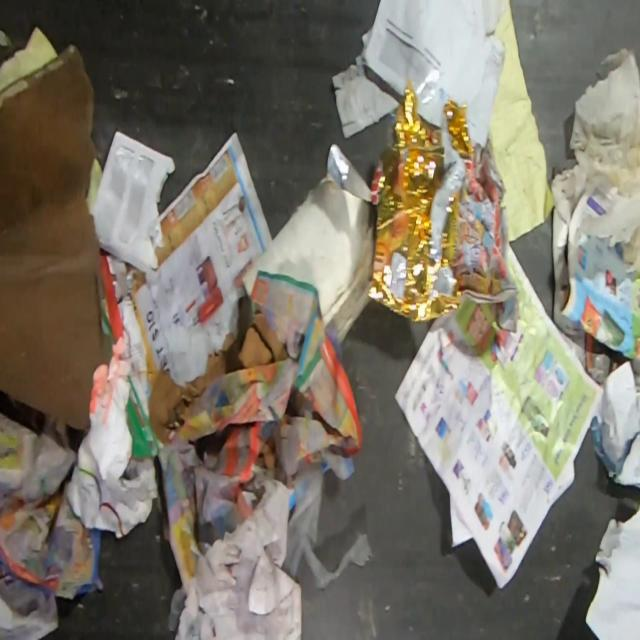cardboard: (147, 308, 289, 448)
soft_plastic: (326, 80, 474, 320), (550, 47, 640, 273), (280, 458, 374, 589)
